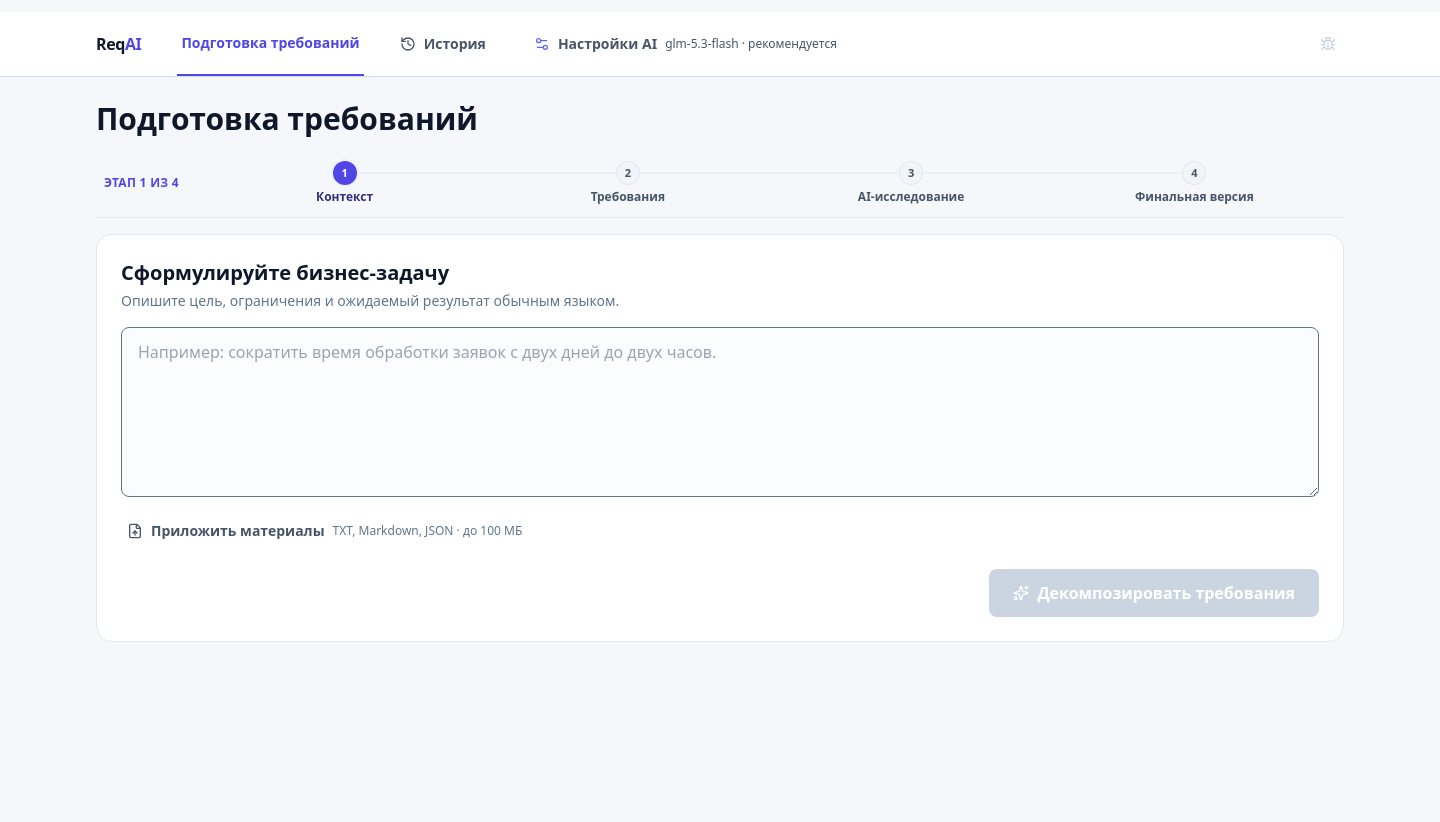
Test: context remains free-form and keeps an accessible attachment control
Replace the text in the text box named "Бизнес-контекст" with "Моя бизнес-задача". click: (720,412)
box: [121, 327, 1319, 497]
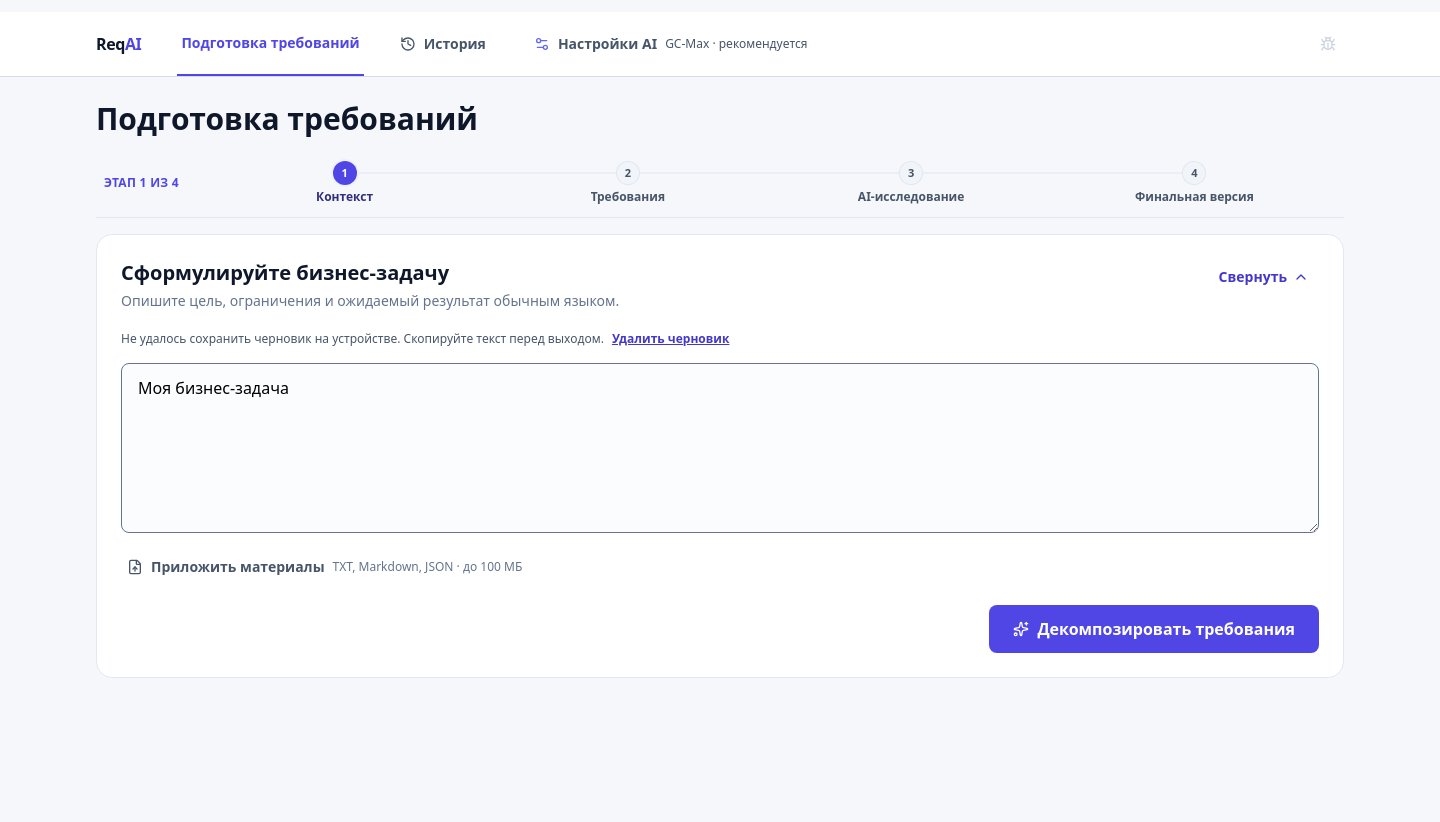
Expected: the text "Приложить материалы" is shown, [151, 557, 324, 577]
Expected: the button with aria-label "Свернуть форму бизнес-задачи" is shown, [1209, 259, 1319, 295]
